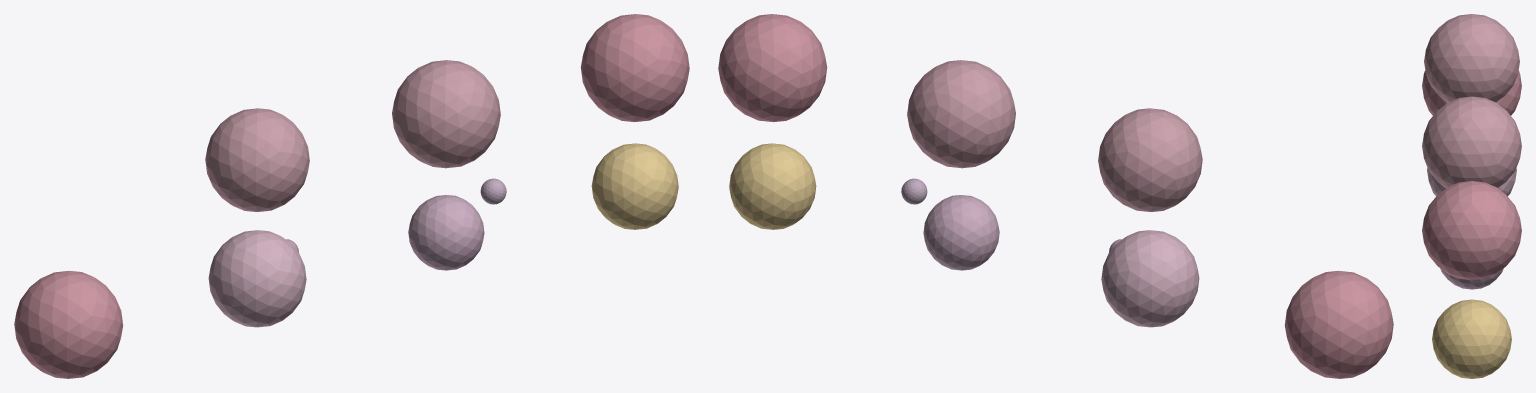
The model's file is menstrual_cycle.glb.
3 renders of one model, left to right at view 1: azimuth 30°, elevation 25°; view 2: azimuth 150°, elevation 25°; view 3: azimuth 270°, elevation 25°, orthographic. The views are drawn at different scales.
Parts seen in each view (by area): view 1: world; view 2: world; view 3: world.
Part boxes in pixels (x1=…): world: x1=14, y1=14, x2=689, y2=378; world: x1=718, y1=14, x2=1393, y2=378; world: x1=1422, y1=14, x2=1521, y2=378.
Bounding box in the file's own units: 7 × 2.2 × 1.
